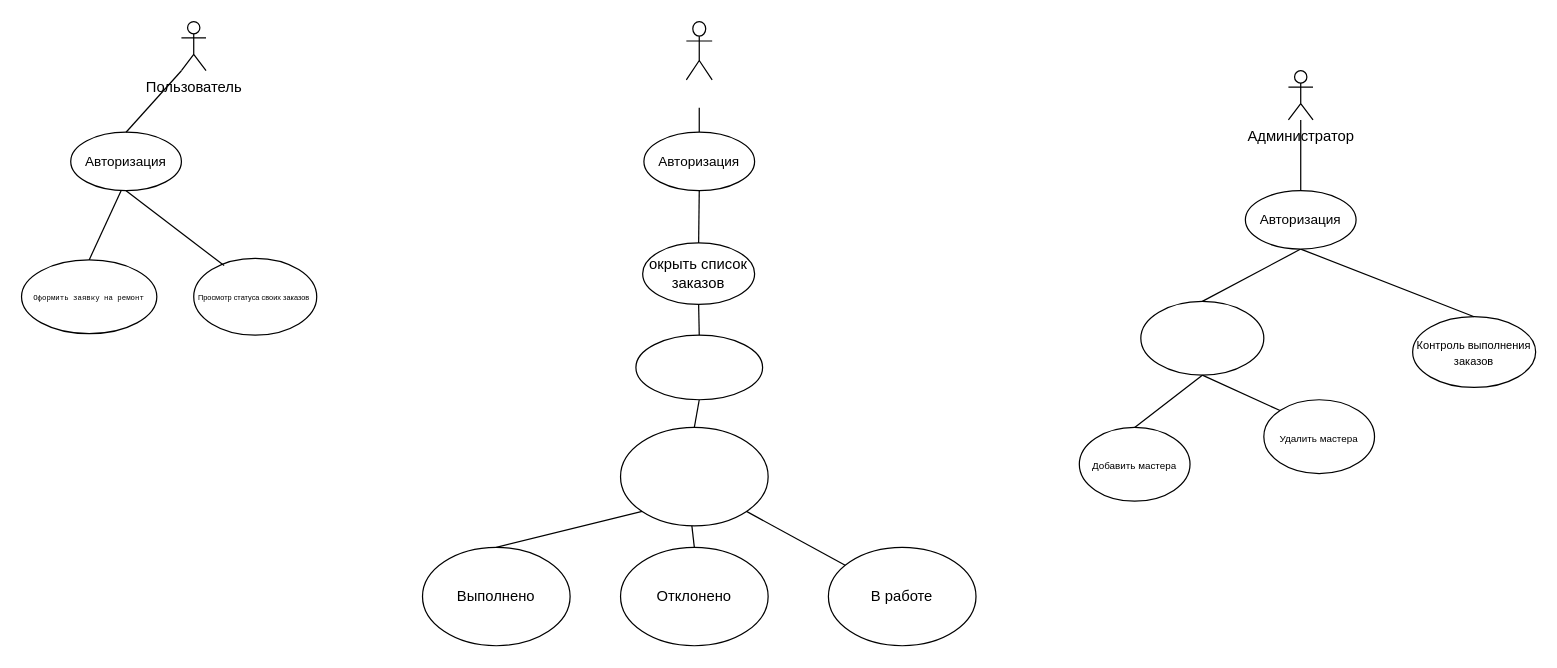
Image size: 1557x668. Some labels were removed from this diagram. The shapes that lost their labels are listed below. From the top down, each one's centre as x and y in pixels, then its label:
point (698, 50): Мастер
point (1202, 337): Управление мастерами
point (699, 367): выбрать нужный
point (693, 476): Изменение обработки заказов
